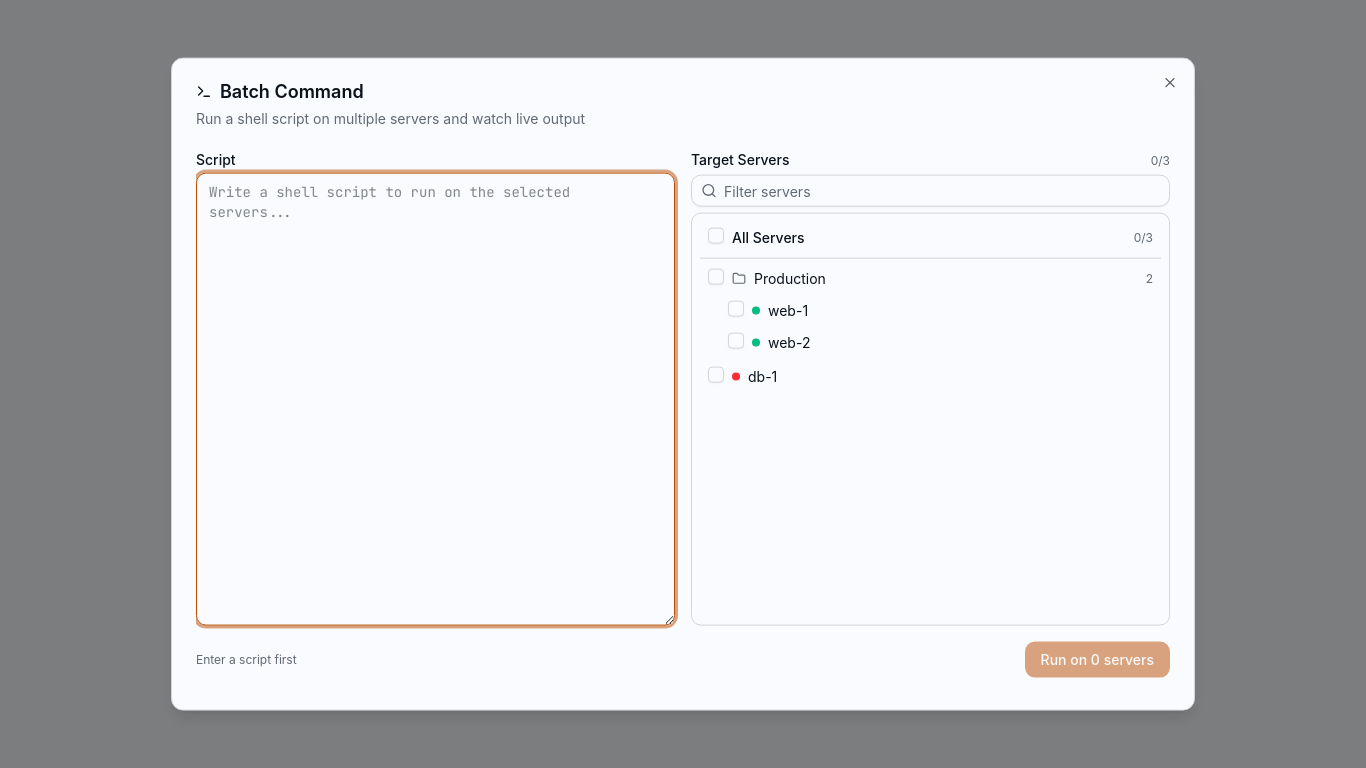
Scenario: BatchCommandDialog › selects ungrouped Servers individually
expect the text "Production" is shown: met, box left=754, top=269, right=826, bottom=289
Click the text "db-1".
click(763, 377)  # box left=748, top=367, right=777, bottom=387
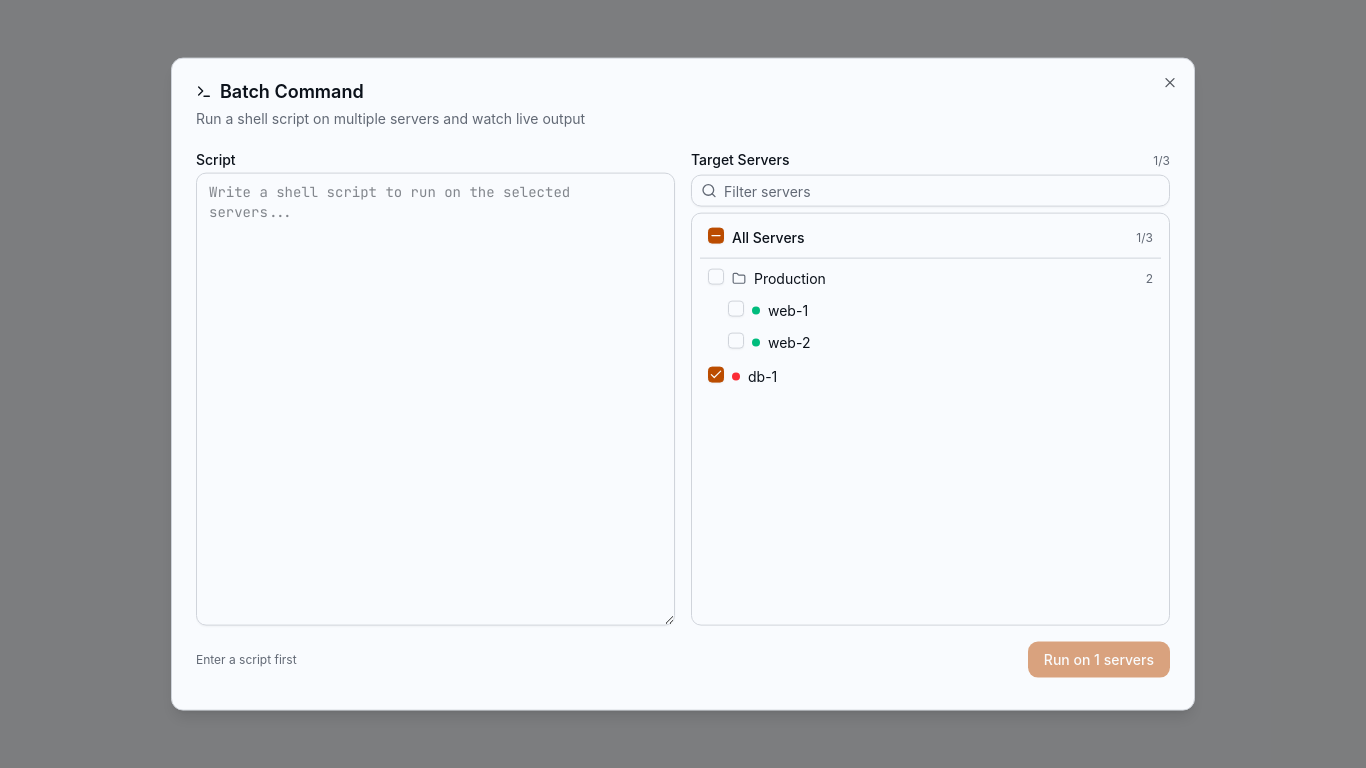
Type "echo hi" into the text box labelled "Script".
click(436, 399); type("echo hi")  # box left=196, top=173, right=675, bottom=625
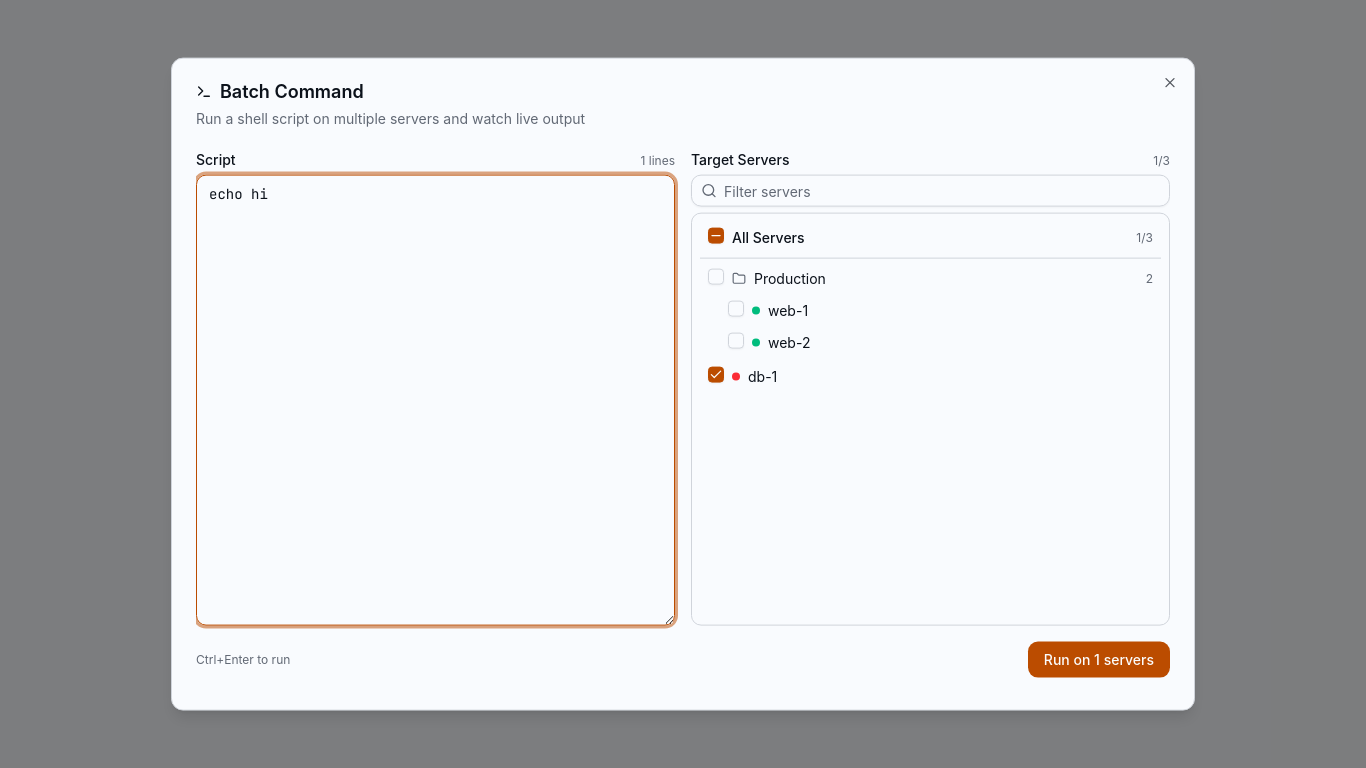
expect the button "Run on 1 servers" is enabled: met, box left=1028, top=641, right=1170, bottom=677
